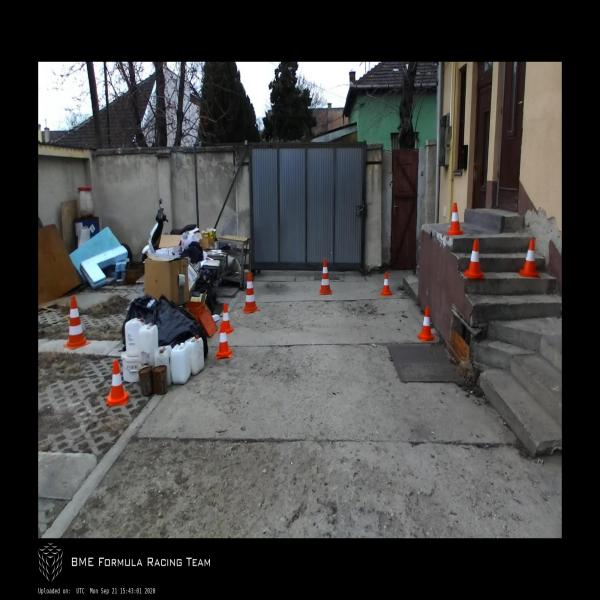large_orange_cone: (64, 296, 90, 349), (242, 271, 260, 314), (319, 258, 332, 295)
orange_cone: (106, 360, 130, 406), (462, 239, 484, 279), (518, 238, 540, 277), (417, 306, 435, 342), (216, 322, 232, 360), (446, 203, 464, 235), (218, 303, 234, 334), (379, 272, 392, 296)
